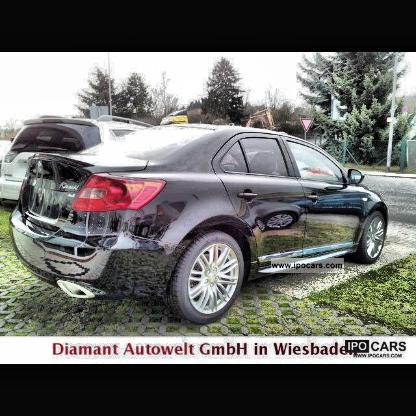Suzuki Kizashi Sedan 2012: (10, 127, 390, 324)
